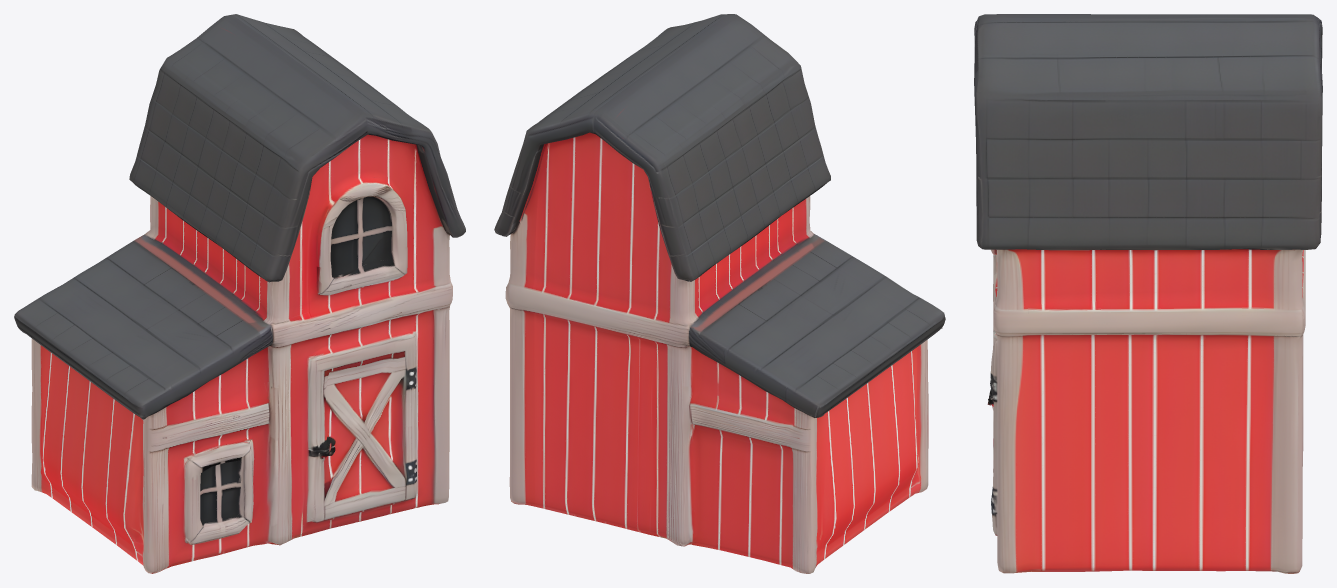
The model's file is house_base_basic_shaded.glb.
3 views of the same model, side by side, from view 1: azimuth 30°, elevation 25°; view 2: azimuth 150°, elevation 25°; view 3: azimuth 270°, elevation 25° (orthographic). The views are drawn at different scales.
Parts seen in each view (by area): view 1: model; view 2: model; view 3: model.
Part boxes in pixels (<box>): model: <box>14,14,465,573</box>; model: <box>494,14,945,573</box>; model: <box>974,14,1322,573</box>.
Bounding box in the file's own units: 4.58 × 5.71 × 3.55.
1 material, 1 textured.
